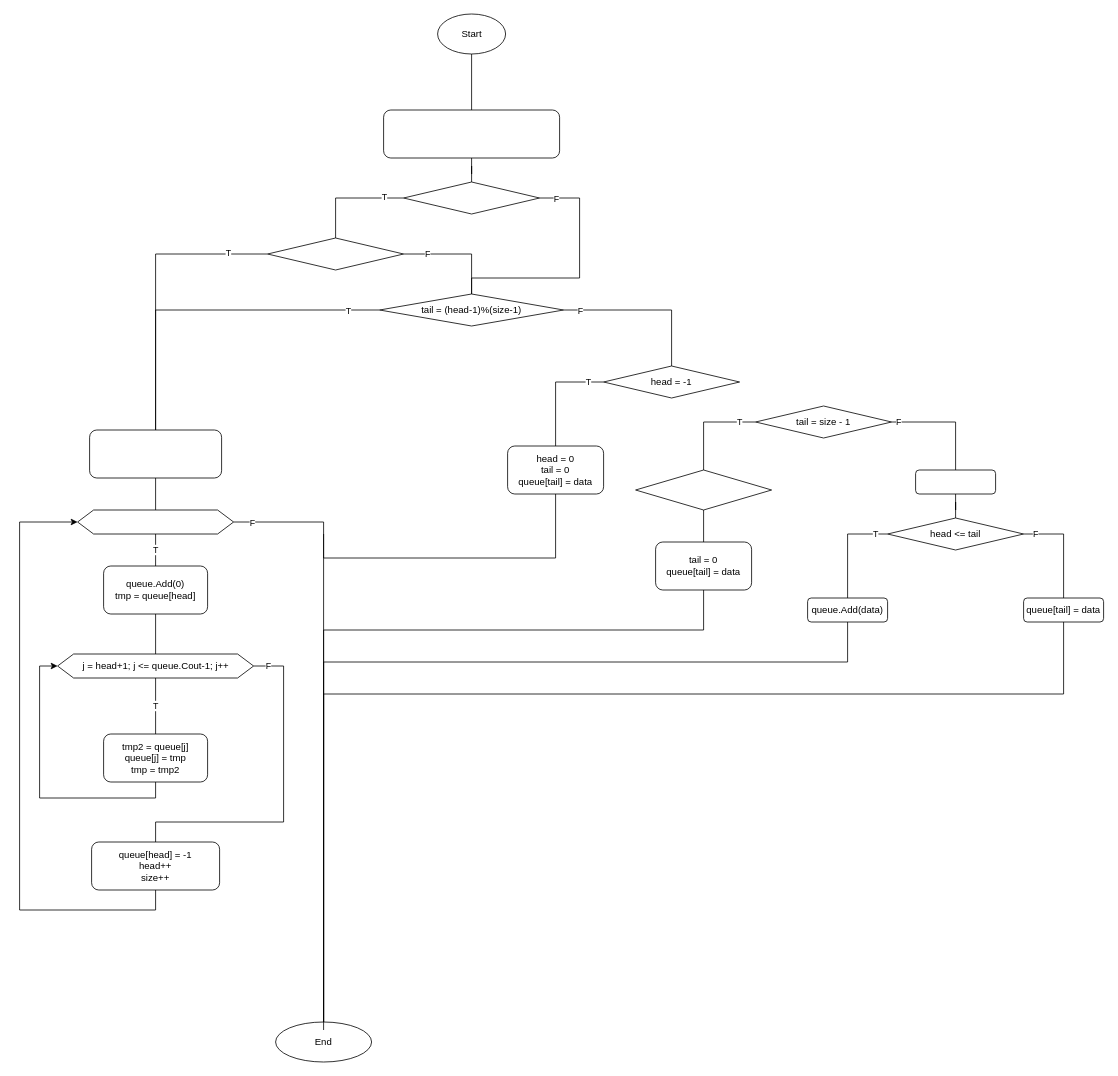
Some shapes in this 1118 by 1076 pixel diagram are drawn without their labels. The shapes that lost their labels are listed below. From the top down, each one's box as (x1, y1, x2, y2) in pixels, then its label:
(383, 109, 560, 158): int size, head, tail List<int> queue = new List<int>()
(403, 181, 540, 214): head = 0
(267, 237, 404, 270): tail = size-1
(89, 429, 222, 478): prevCount = queue.Count
(635, 469, 772, 510): head !=0
(915, 469, 996, 494): tail = tail+1
(77, 509, 234, 534): i = 1; i <= 6; i++
